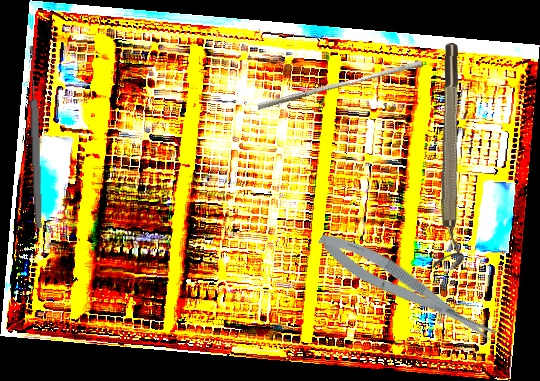Fixation Ring: (433, 42, 472, 271)
Micro Scissor: (312, 223, 501, 354)
Pusher: (256, 54, 424, 117)
Surgical Spoon: (27, 45, 44, 229)
